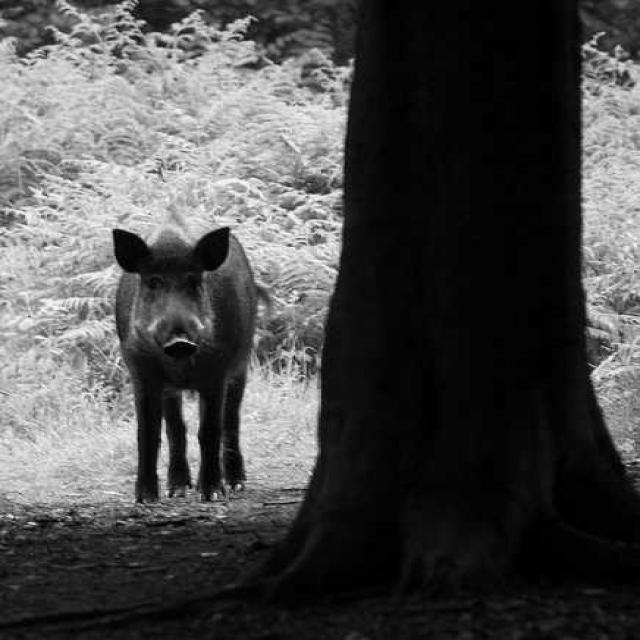boar: (112, 206, 267, 499)
